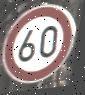Speed Limit -60-: (0, 0, 80, 89)
